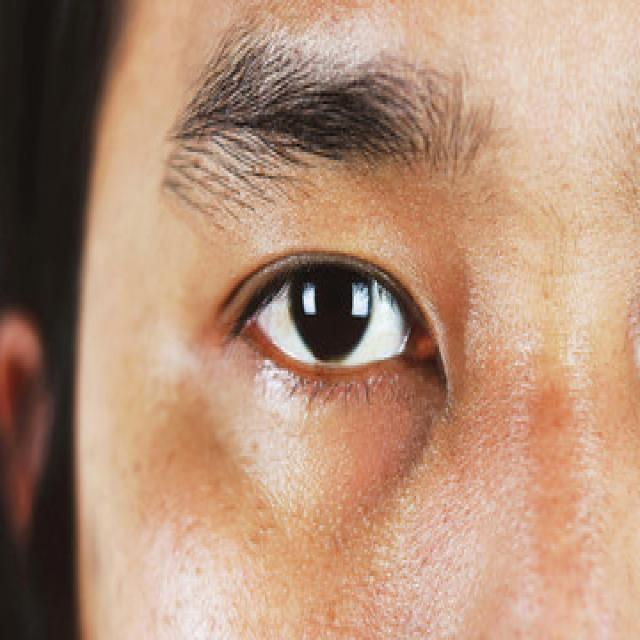Normal: (73, 178, 617, 556)
